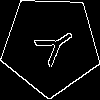Y: (25, 20, 80, 73)
